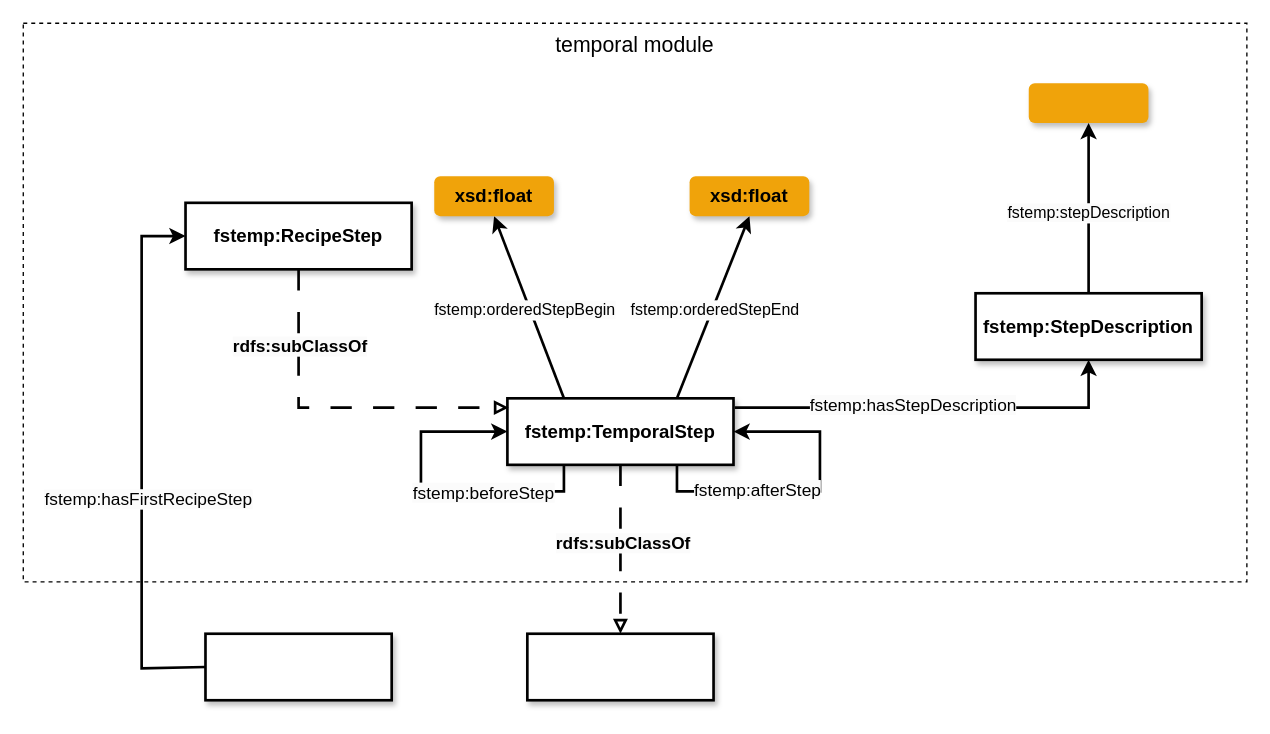
The diagram is 1270 pixels wide and 734 high, and some of its shapes have lost their labels. The centre of each missing label's shape, as x and y in pixels:
"fsreci:Recipe" goes at pixel 299 668.
"time:ProperInterval" goes at pixel 621 668.
"xsd:string" goes at pixel 1089 104.
